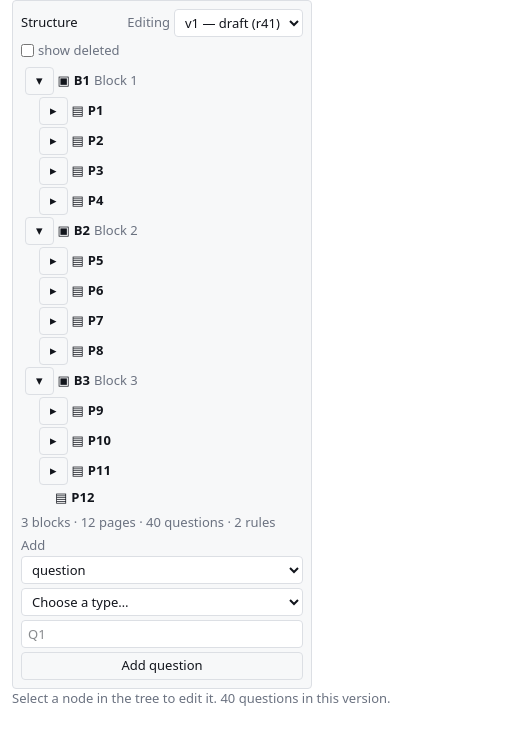
Scenario: SurveyTreePane — building the survey › refuses a node with no ref rather than creating an unnamed one
The image size is (509, 742).
expect the element with test id "survey-tree" is shown: met, box [25,66,138,506]
What coordinates should you click on to do the following:
click the button with test id "add-node"
I would click on:
 (162, 666)
Its box is [21,652,303,680].
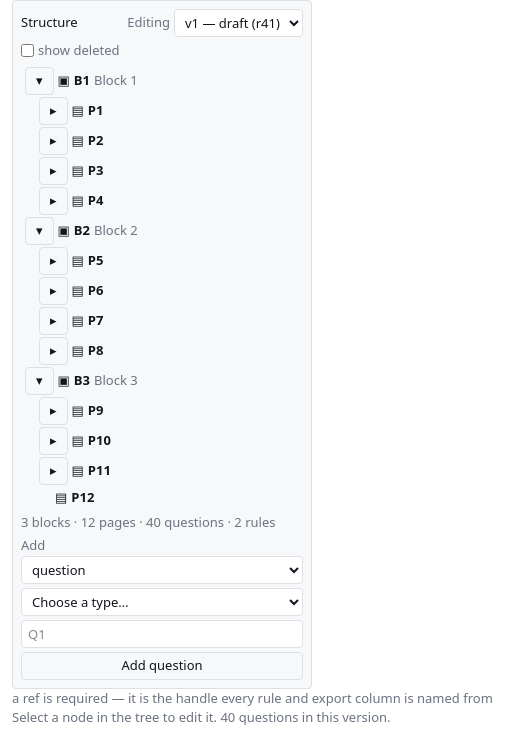
expect the message with test id "tree-announcement" shows "a ref is required": met, box [12,688,493,706]
